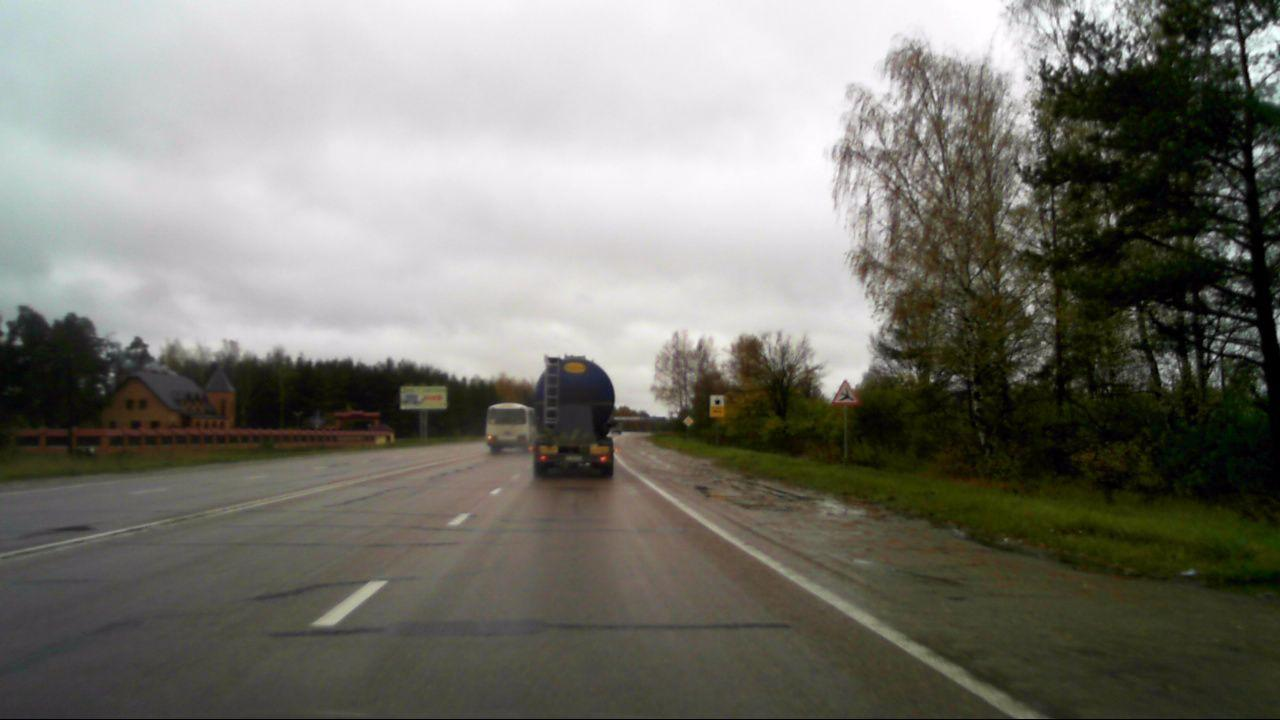1_30: (830, 377, 860, 407)
